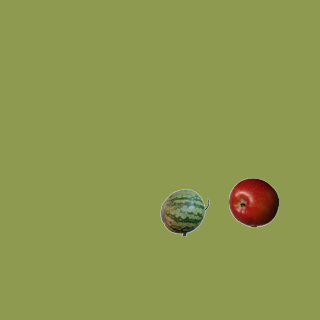Apple Braeburn: (228, 177, 278, 227)
Watermelon: (159, 187, 209, 237)
